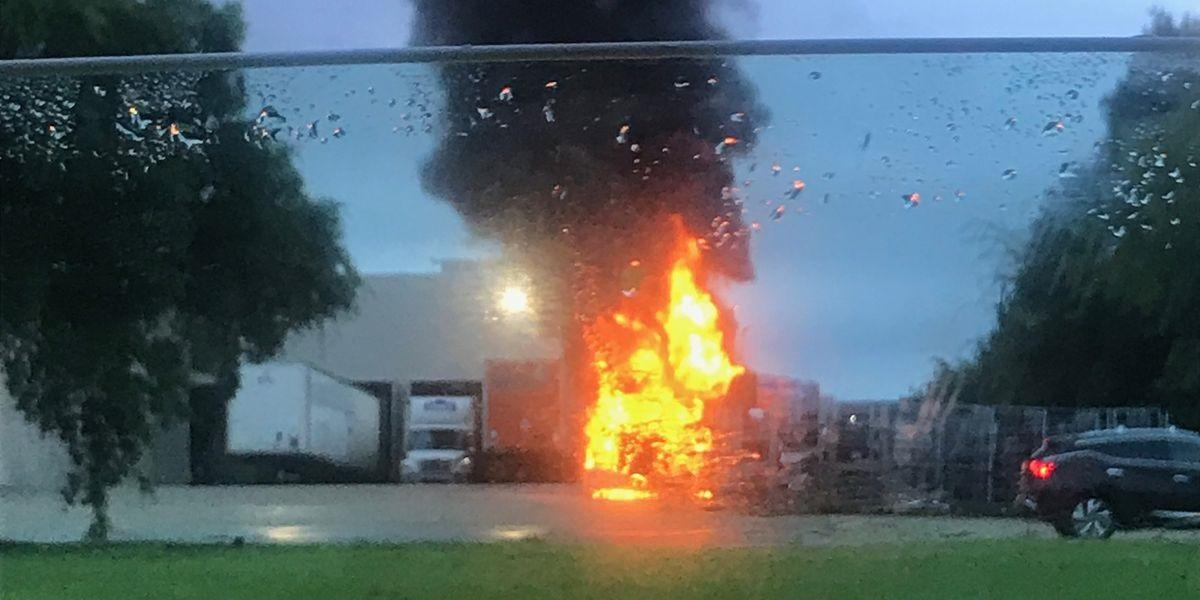fire: (599, 394, 694, 479), (671, 277, 734, 390)
smoke: (469, 69, 677, 227)
